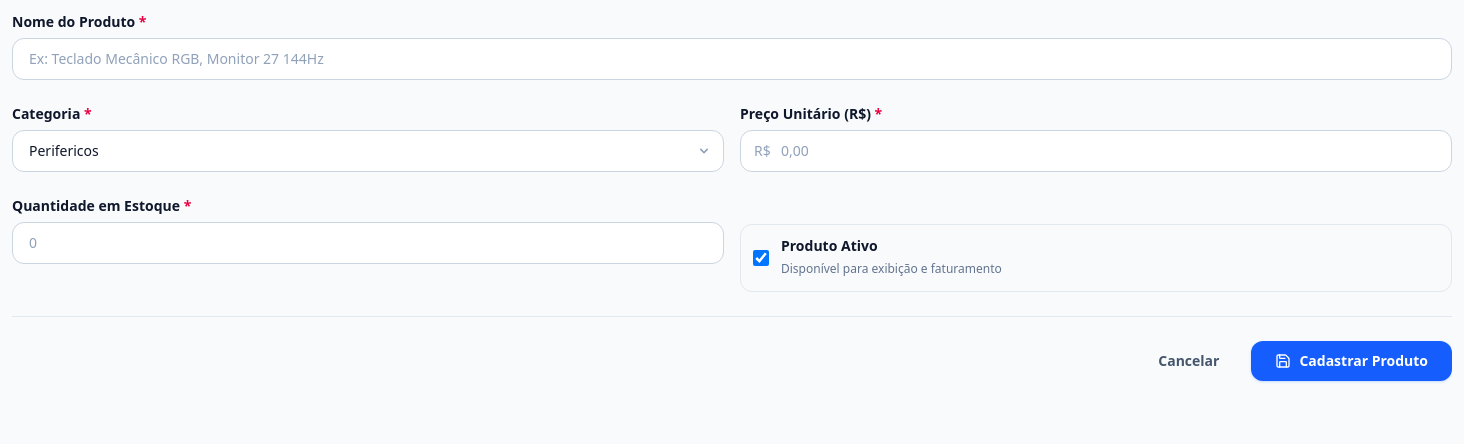
Scenario: ProductForm component › deve exibir mensagens de erro inline ao submeter formulário vazio
Click the button "Cadastrar Produto" at (1352, 360), box [1251,340,1452,380]
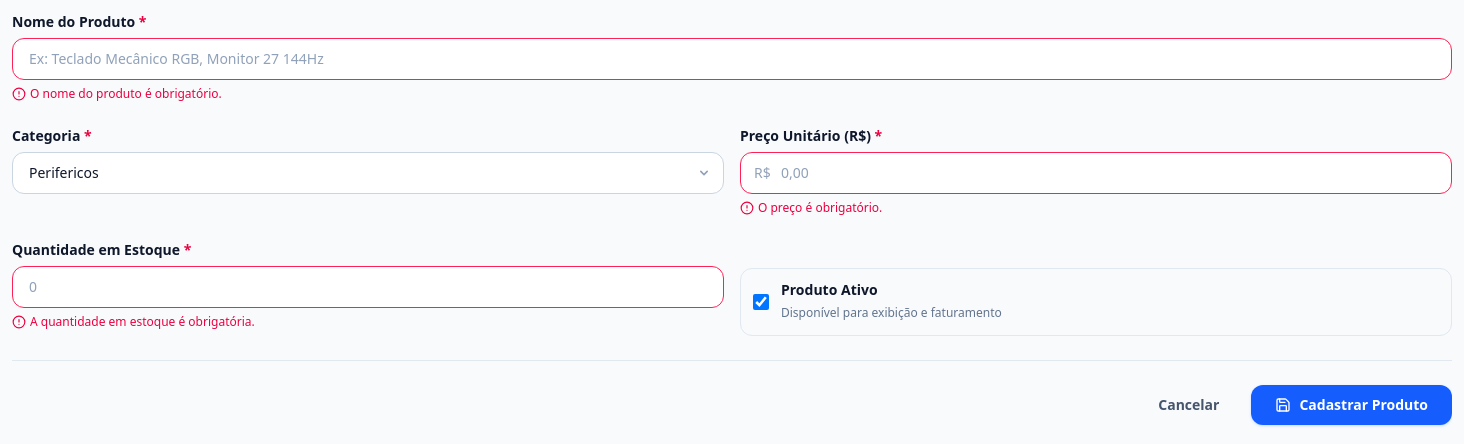
expect the text "O nome do produto é obrigatório." is shown: met, box [30,86,222,102]
expect the text "O preço é obrigatório." is shown: met, box [758,200,882,216]
expect the text "A quantidade em estoque é obrigatória." is shown: met, box [30,314,255,330]
